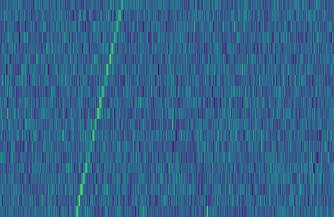signal: (69, 0, 126, 217)
